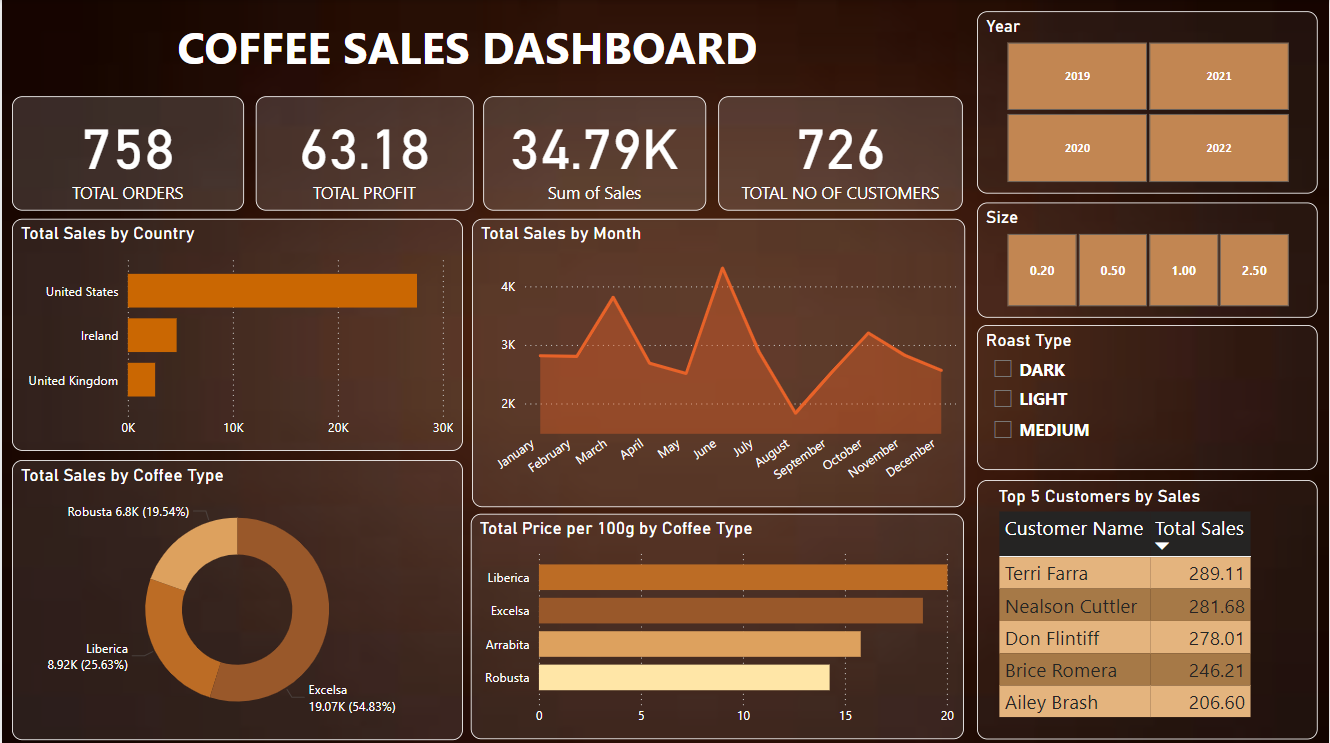

This screenshot's page, from the dashboard's own definition file:
{"tool":"powerbi","page":{"name":"Page 1","canvas":[1280,720],"ordinal":0},"visuals":[{"type":"textbox","box":[164.1,10.9,580.3,73.6],"z":0},{"type":"barChart","title":"Total Sales by Country","fields":{"Category":["orders.Country"],"Y":["orders.Sales"]},"box":[10,211.2,435,223.8],"z":1000},{"type":"stackedAreaChart","title":"Total Sales by Month","fields":{"Category":["orders.Order Date.Variation.Date Hierarchy.Month"],"Y":["orders.Sales"]},"box":[453.8,211.2,476.2,278.8],"z":2000},{"type":"donutChart","title":"Total Sales by Coffee Type","fields":{"Category":["orders.Coffee type"],"Y":["orders.Sales"]},"box":[10,443.8,435,270],"z":3000},{"type":"slicer","title":"Year","fields":{"Values":["orders.Order Date.Variation.Date Hierarchy.Year"]},"box":[941.2,11.2,328.8,176.2],"z":4000},{"type":"card","title":"TOTAL ORDERS","fields":{"Values":["orders.Order ID"]},"box":[10,92.5,223.8,110],"z":5000},{"type":"card","fields":{"Values":["prod.Profit"]},"box":[245,92.5,210,110],"z":6000},{"type":"barChart","title":"Total Price per 100g by Coffee Type","fields":{"Category":["prod.Coffee Type"],"Y":["prod.Price per 100g"]},"box":[452.5,496.2,476.2,217.5],"z":7000},{"type":"card","fields":{"Values":["orders.Sales"]},"box":[465,92.5,215,110],"z":8000},{"type":"card","fields":{"Values":["orders.Customer ID"]},"box":[691.2,92.5,236.2,110],"z":9000},{"type":"slicer","title":"Roast Type","fields":{"Values":["prod.ROAST TYPE"]},"box":[941.2,313.8,328.8,140],"z":10000},{"type":"tableEx","title":"Top 5 Customers by Sales","fields":{"Values":["orders.Customer Name","orders.Sales"]},"box":[941.2,463.8,328.8,250],"z":11000},{"type":"slicer","title":"Size","fields":{"Values":["prod.Size"]},"box":[941.2,195,328.8,111.2],"z":12000}]}

Visuals, with their boxes in screenshot pixels (x1, y1, x2, y2), scaled from the page's 1280x720 canvas onto the 1330x743 screenshot:
textbox: [171,11,773,87]
"Total Sales by Country" barChart: [10,218,462,449]
"Total Sales by Month" stackedAreaChart: [472,218,966,506]
"Total Sales by Coffee Type" donutChart: [10,458,462,737]
"Year" slicer: [978,12,1320,193]
"TOTAL ORDERS" card: [10,95,243,209]
card - prod.Profit: [255,95,473,209]
"Total Price per 100g by Coffee Type" barChart: [470,512,965,736]
card - orders.Sales: [483,95,707,209]
card - orders.Customer ID: [718,95,964,209]
"Roast Type" slicer: [978,324,1320,468]
"Top 5 Customers by Sales" tableEx: [978,479,1320,737]
"Size" slicer: [978,201,1320,316]
